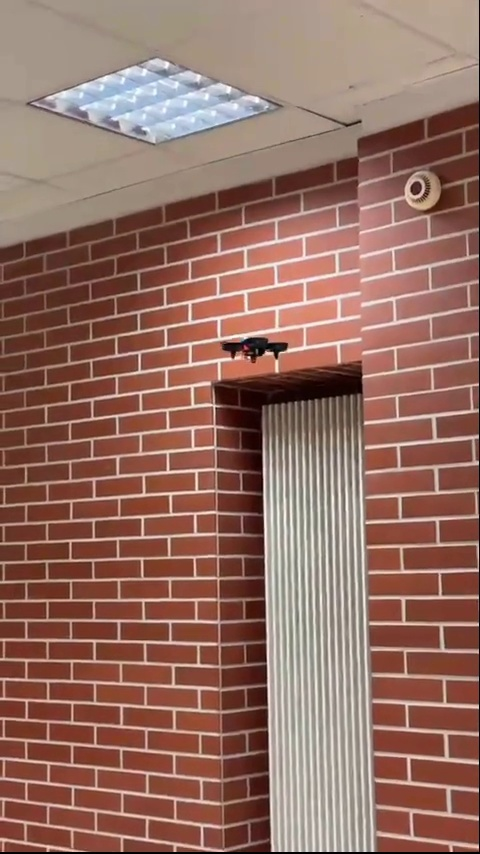drone: (223, 336, 287, 365)
